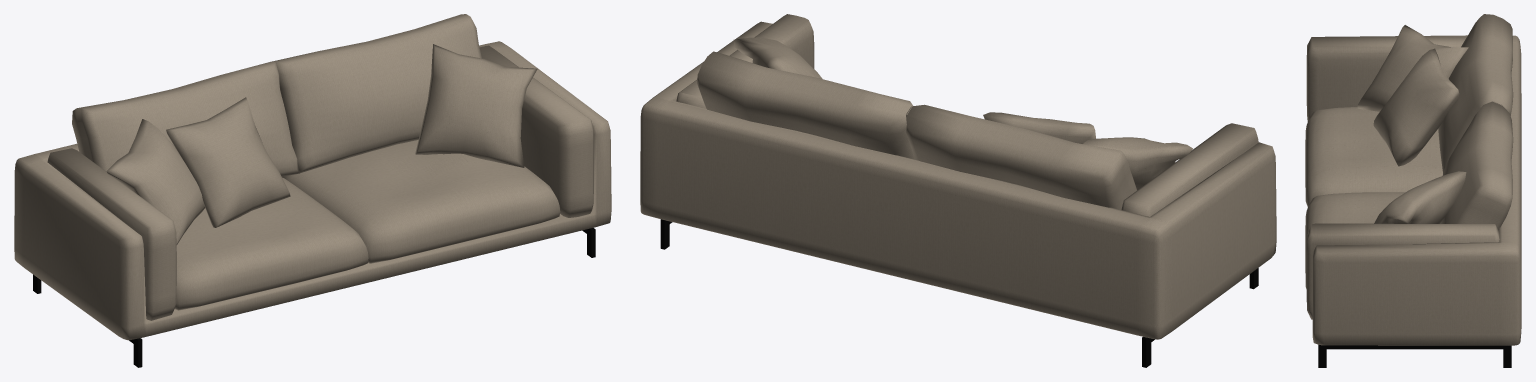
Rendered from theappxr_Divano_1_NODRACO_standard.glb.
3 views of the same model, side by side, from view 1: azimuth 30°, elevation 25°; view 2: azimuth 150°, elevation 25°; view 3: azimuth 270°, elevation 25° (orthographic). The views are drawn at different scales.
Visible parts, largest first — view 1: Divano; view 2: Divano; view 3: Divano.
Boxes of the visible parts, box(x1,y1,x2,y2) form: Divano: box(14, 14, 611, 367); Divano: box(640, 14, 1276, 367); Divano: box(1305, 14, 1521, 367).
Size of the model in its own units: 2.76 by 0.9809 by 1.15.
Materials: 2 (1 with a texture image).
